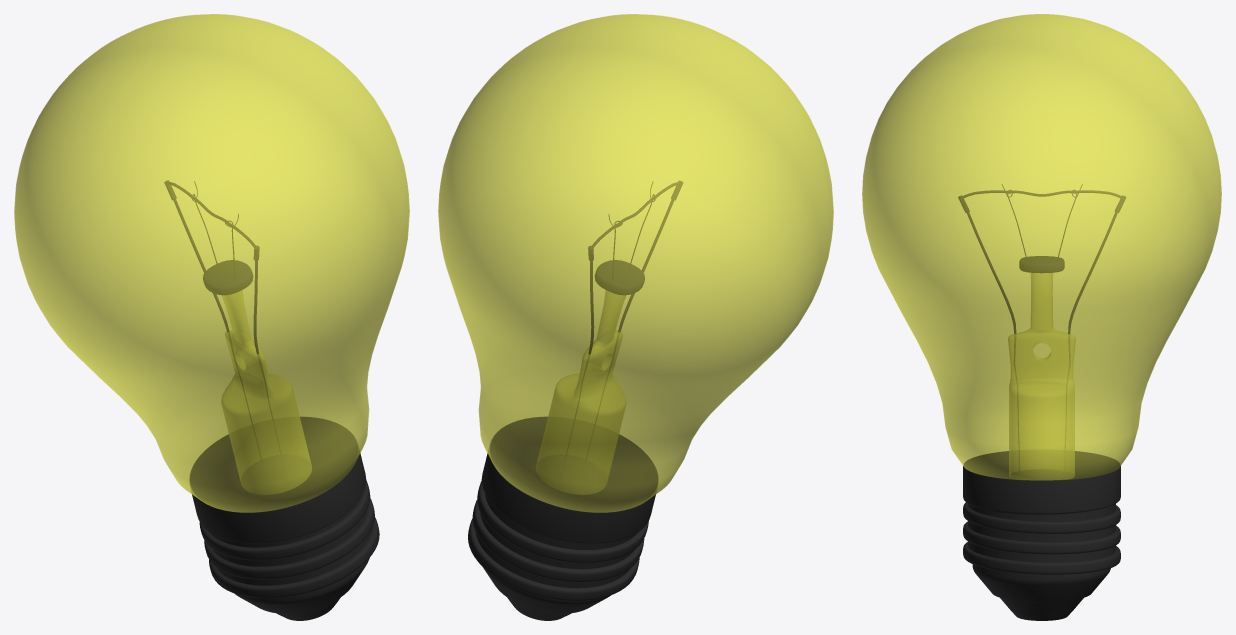
File: Sugerencia.glb
The picture shows the model from 3 angles, left to right: view 1: azimuth 30°, elevation 25°; view 2: azimuth 150°, elevation 25°; view 3: azimuth 270°, elevation 25°; orthographic projection. The views are drawn at different scales.
Visible parts, largest first — view 1: Object01, Object04; view 2: Object01, Object04; view 3: Object01, Object04.
Part boxes in pixels (x1,y1,x2,y2): Object01: (14,14,409,512); Object04: (164,180,379,620); Object01: (438,14,833,512); Object04: (468,180,682,620); Object01: (862,14,1221,480); Object04: (958,184,1125,620).
Size of the model in its own units: 2.4 by 4.03 by 2.4.
